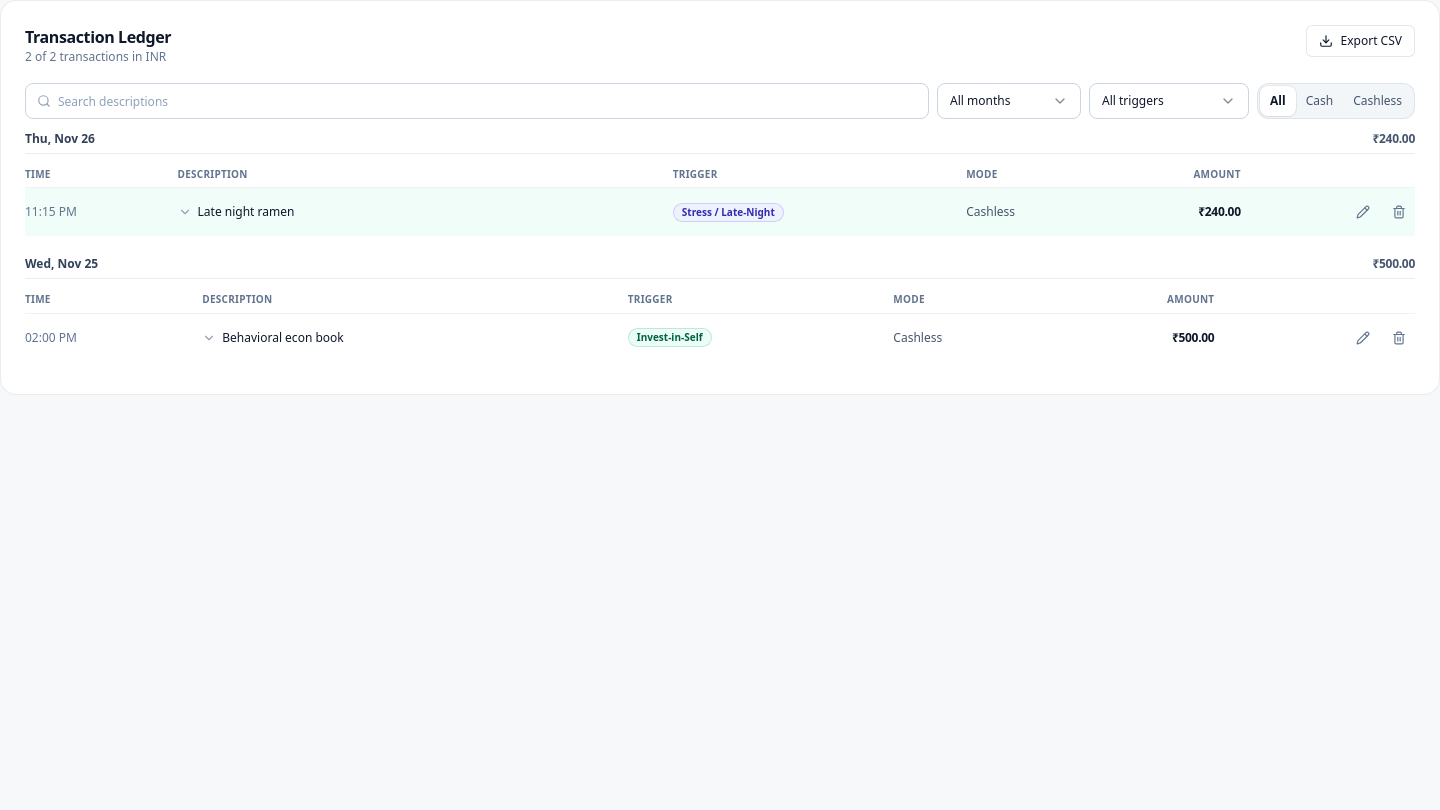
Scenario: Phase 8: Inline Row & Bias Card Expansion › expands a transaction row inline to show multi-unit details without breaking edit/delete
# Click desktop expand button for Late night ramen
Click the button "Late night ramen" at (236, 212), box 178,204 -> 294,220
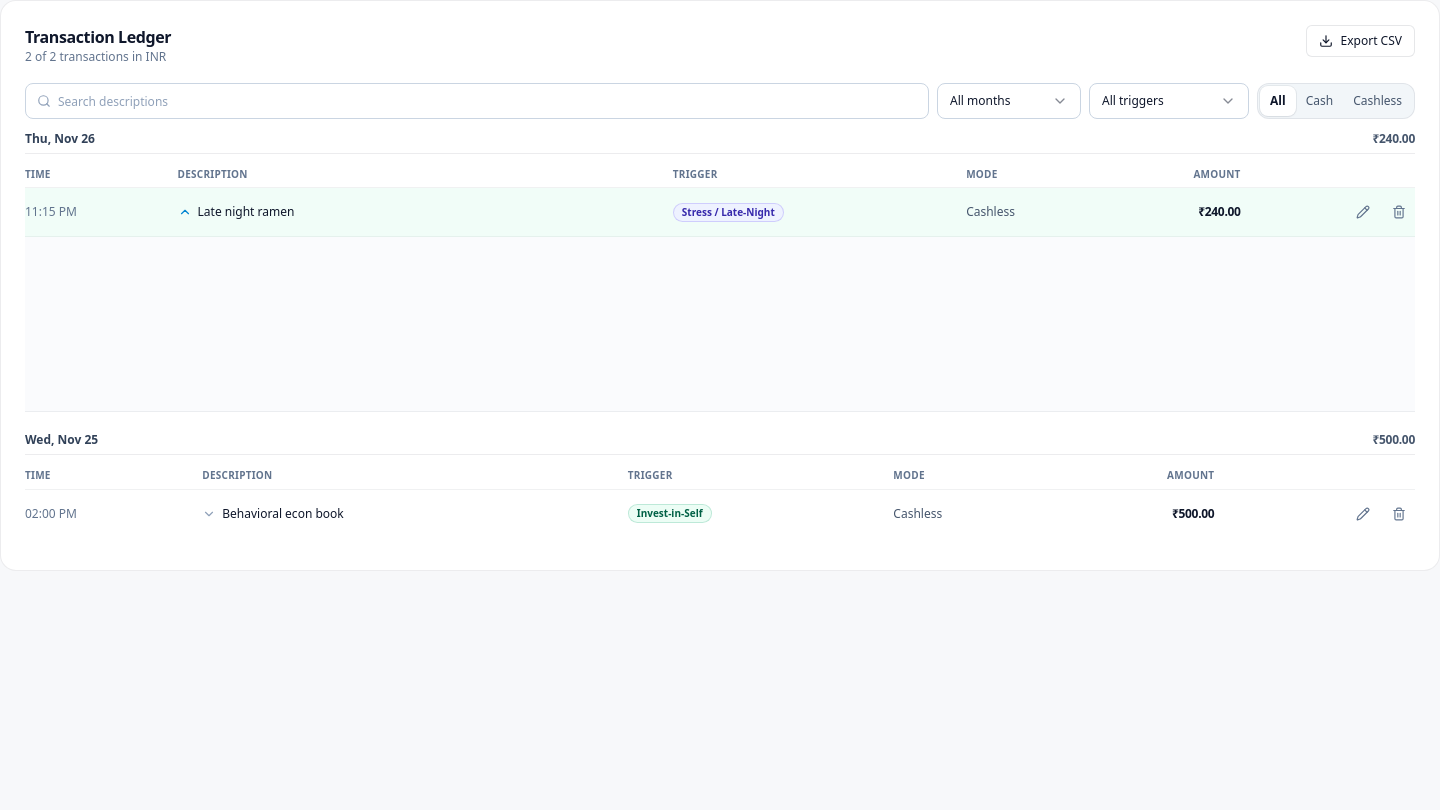
expect the button "Late night ramen" is expanded: met, box 178,204 -> 294,220
# Clicking Edit does not collapse expansion and opens Edit dialog
Click the button named "Edit Late night ramen" at (1363, 212), box 1347,196 -> 1379,228
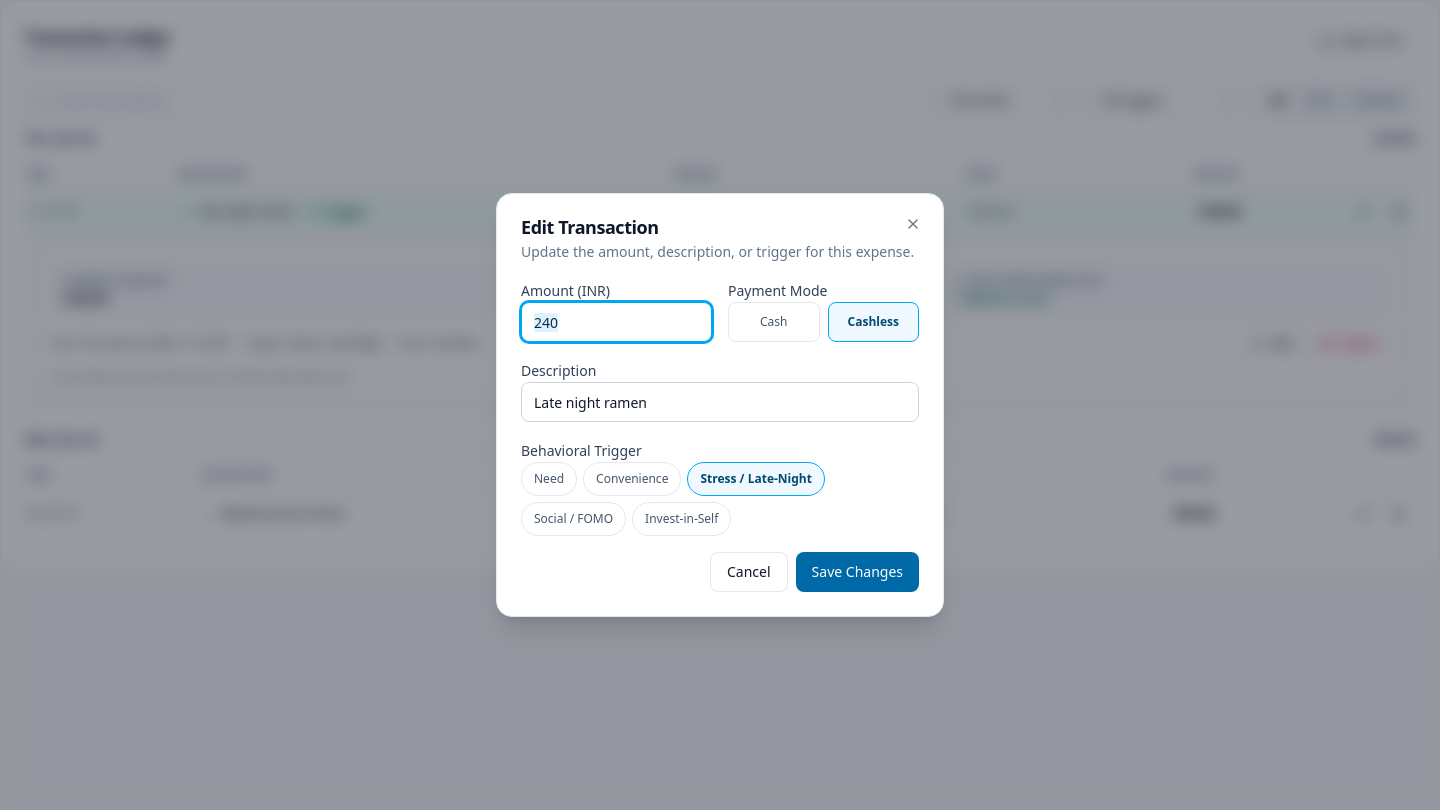
expect the heading "Edit Transaction" is shown: met, box 521,215 -> 659,239
